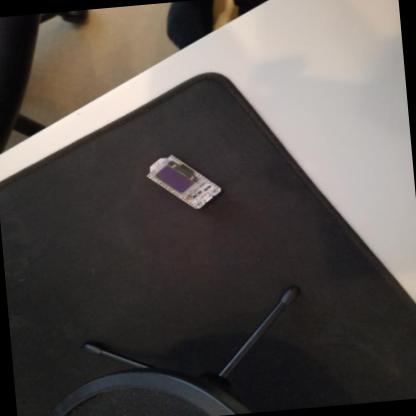Heltec_ESP32_Lora: (145, 150, 226, 217)
